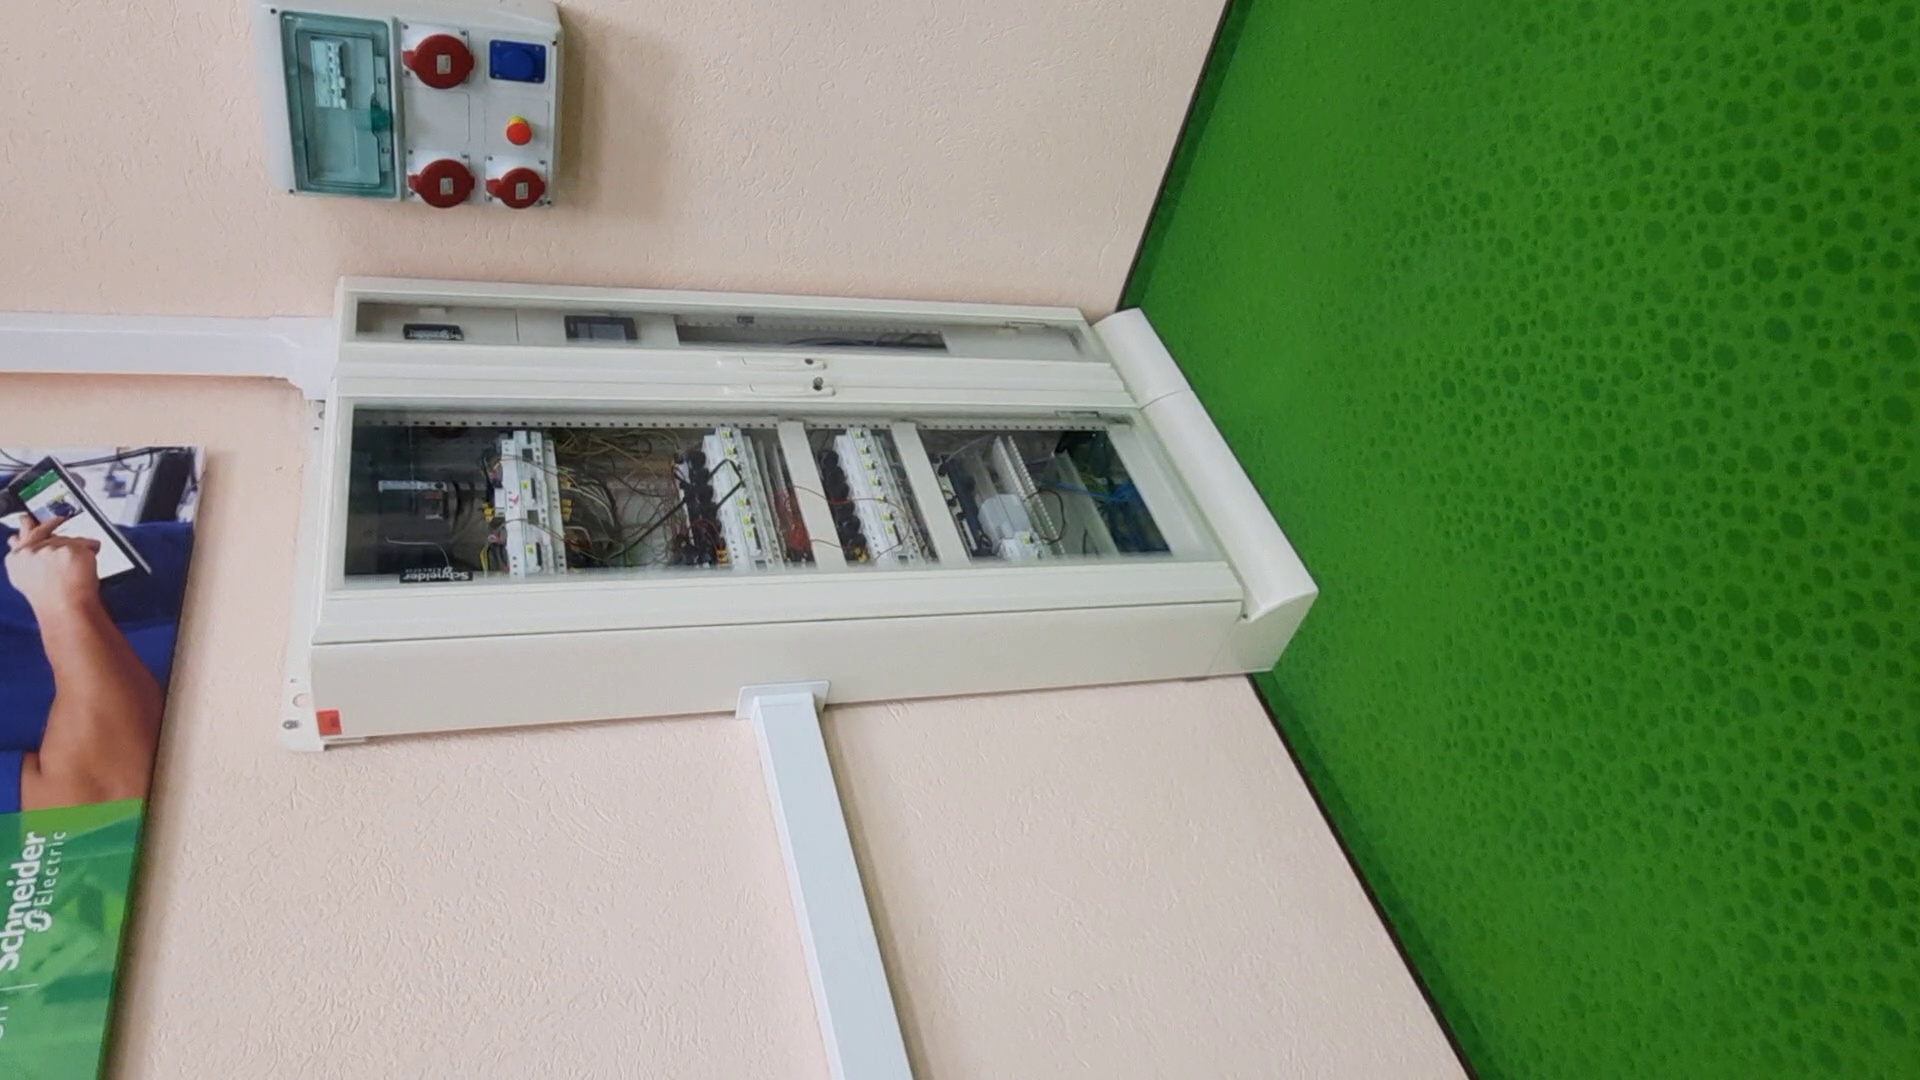stand1: (310, 255, 1317, 750)
